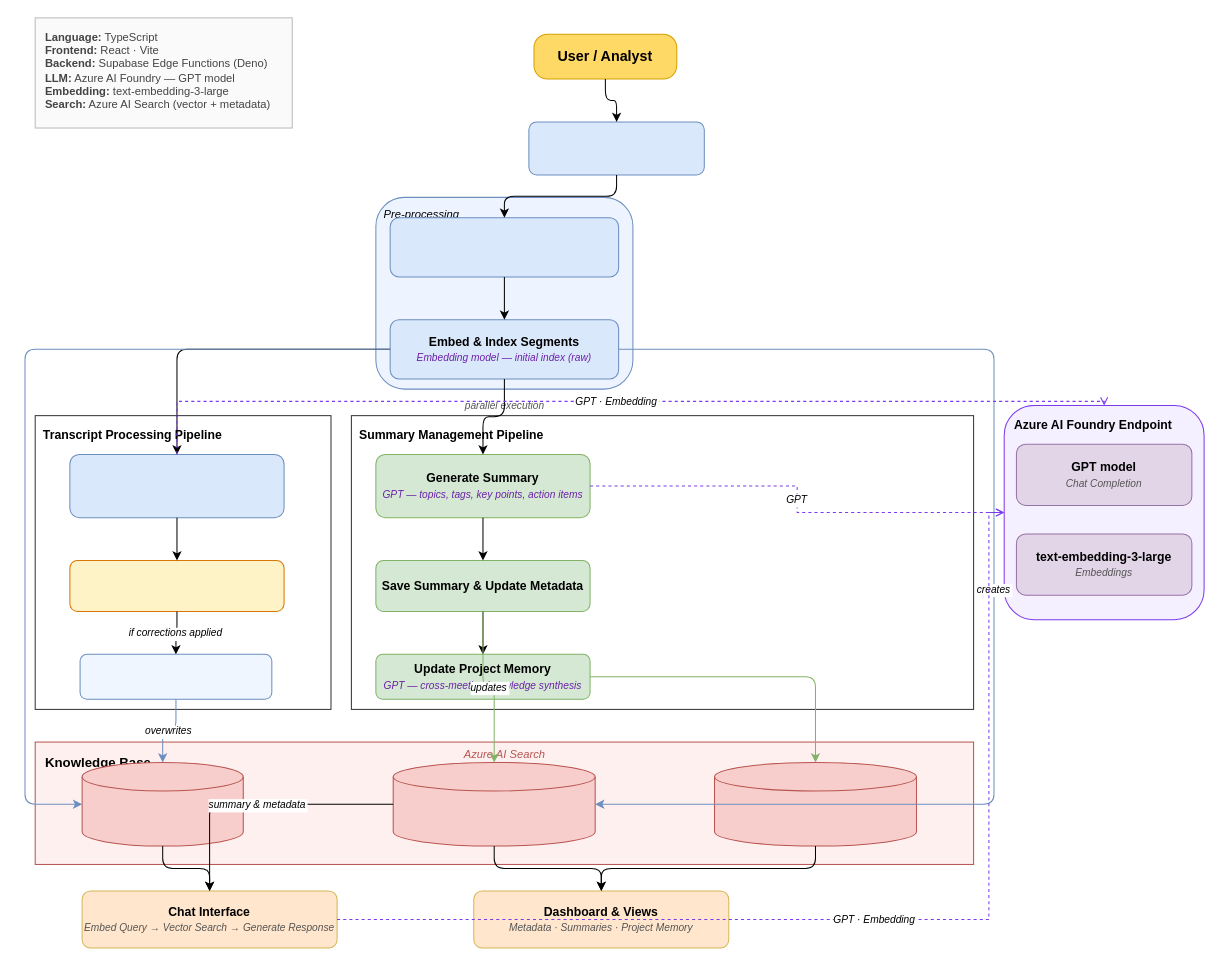
The diagram is 1222 pixels wide and 966 high, and some of its shapes have lost their labels. The shapes that lost their labels are listed below. From the top down, each one's centre as x and y in pixels, then its label:
At point 616,148: "Upload Transcript Assign Project & Context".
At point 504,247: "Parse & Chunk Transcript VTT · SRT · DOCX · TXT · PDF".
At point 176,485: "Transcript Correction GPT — batch grammar & terminology fix".
At point 176,585: "User Reviews & Applies Corrections Human-in-the-loop".
At point 175,676: "Re-Embed & Index Embedding model — overwrite corrected".
At point 162,803: "Search Index Segment vectors".
At point 493,803: "Metadata & Summaries Per-transcript records".
At point 814,803: "Project Memory Cross-meeting summaries".
